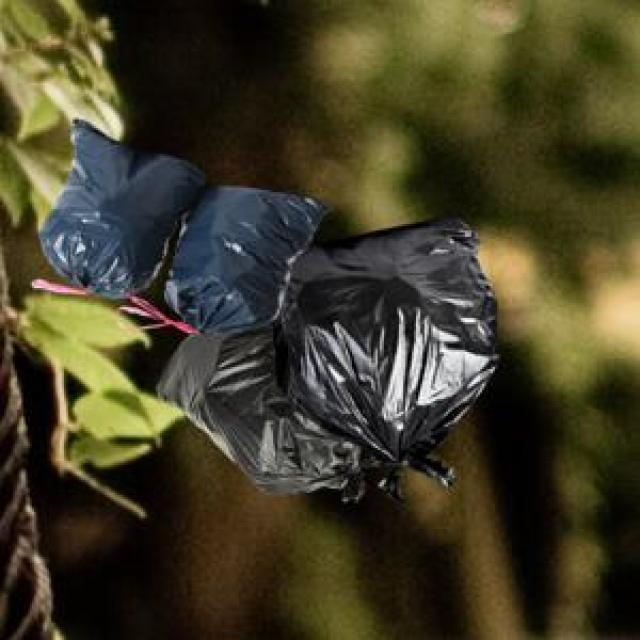waste: (290, 236, 504, 464), (162, 330, 372, 494), (42, 118, 190, 299), (186, 185, 304, 324)
